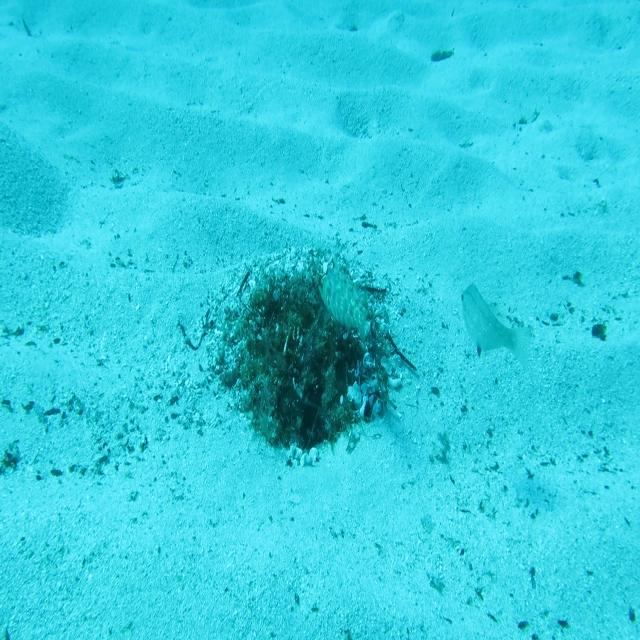INSF: (317, 258, 372, 349)
core_nest: (276, 296, 328, 328)
female: (460, 281, 532, 376)
nest: (204, 243, 406, 474)
vegetation: (431, 46, 455, 69)
